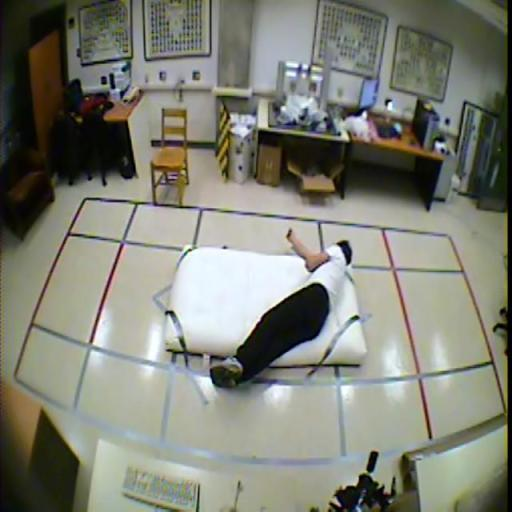Fall: (209, 227, 352, 389)
